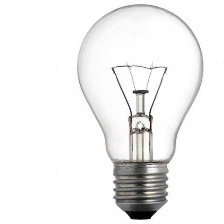light_bulb: (70, 2, 205, 221)
